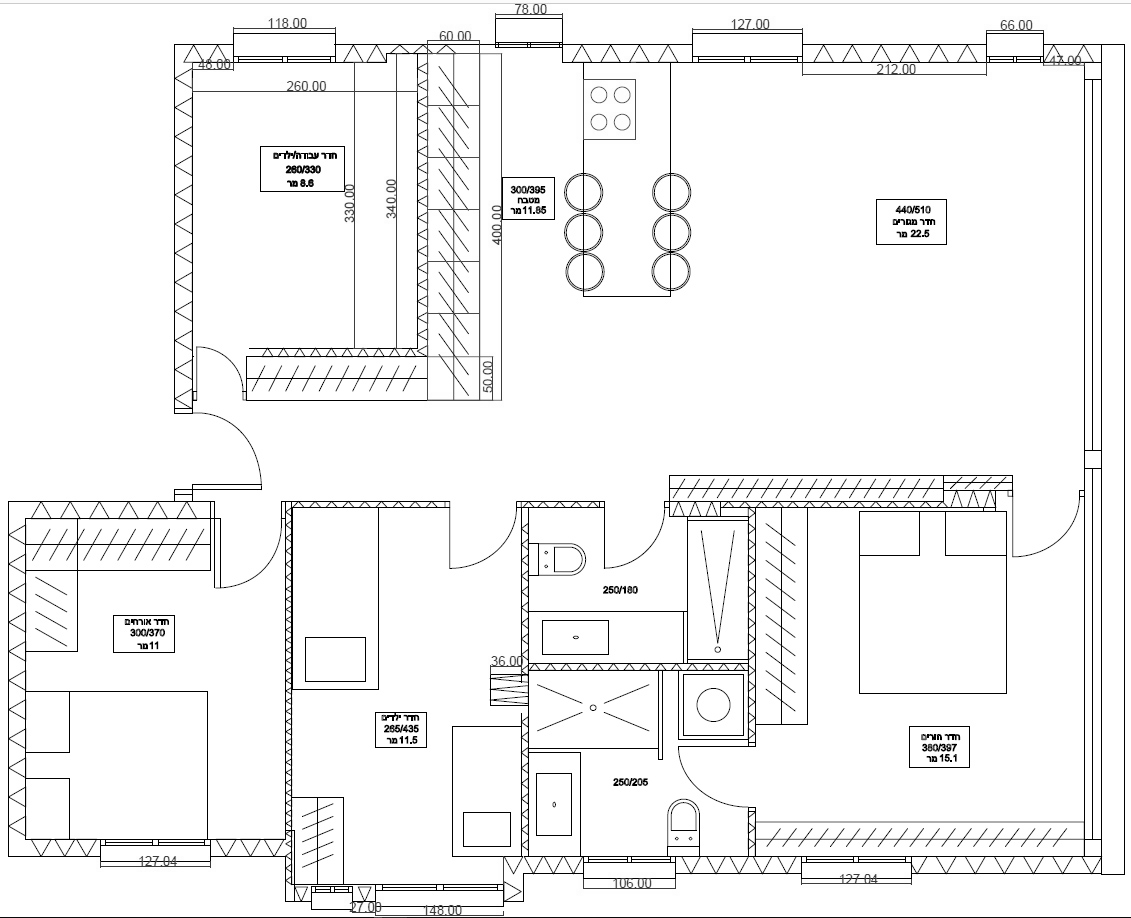door: (196, 409, 274, 495), (440, 519, 516, 588), (216, 531, 278, 604), (1009, 504, 1075, 564), (596, 522, 669, 576), (194, 343, 242, 387)
window: (691, 32, 803, 74), (101, 837, 212, 873), (377, 881, 506, 910), (231, 36, 336, 69), (799, 851, 911, 880), (582, 851, 675, 880), (495, 16, 563, 51), (987, 32, 1043, 74), (313, 885, 354, 914)
